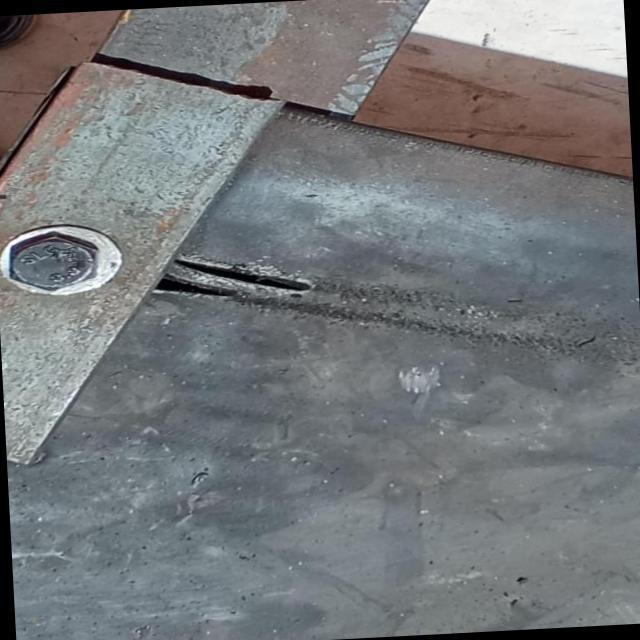Puncture: (516, 573, 530, 585), (509, 596, 522, 608), (502, 588, 510, 600)
Tear: (170, 253, 316, 300), (151, 274, 243, 302), (570, 330, 606, 352), (188, 466, 208, 499)
